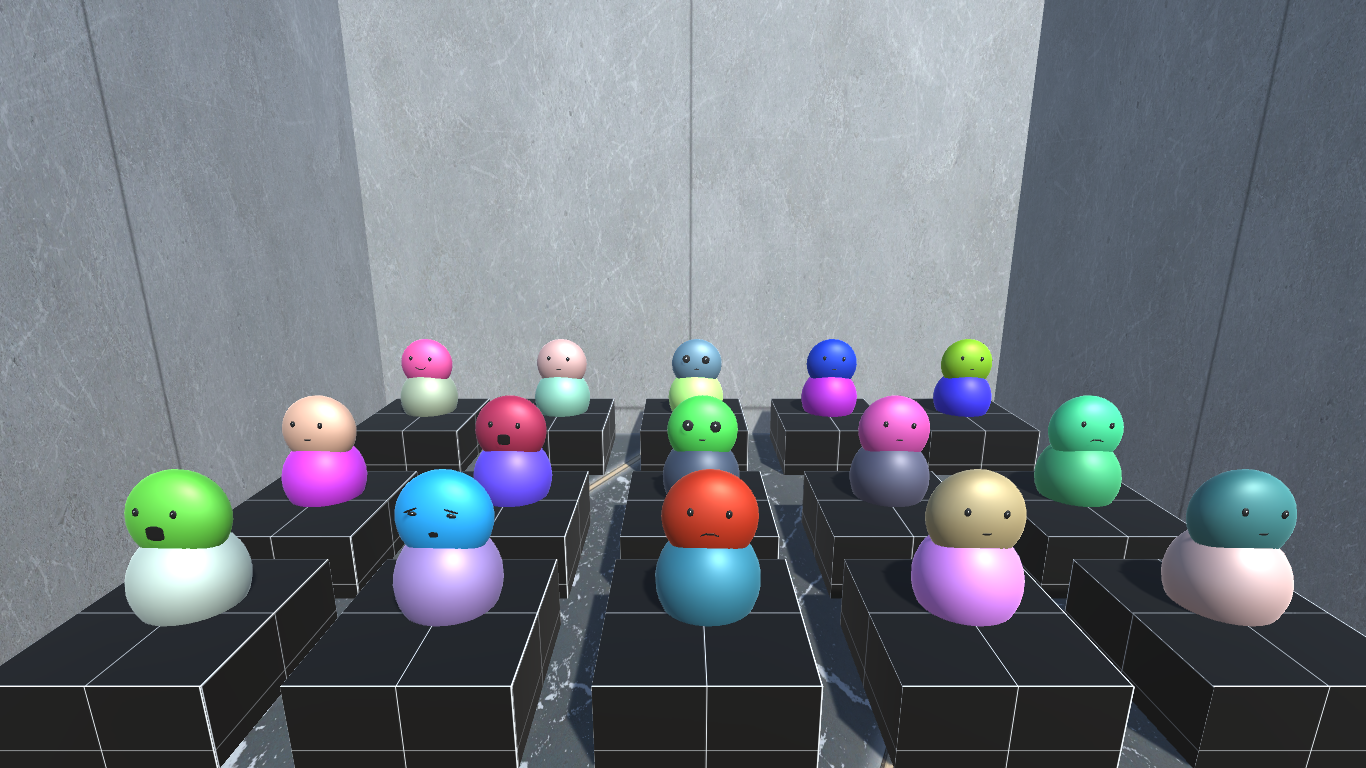blob_atento: (662, 390, 739, 454), (667, 335, 720, 378)
blob_entediado: (389, 471, 500, 552)
blob_feliz: (394, 335, 458, 383)
blob_normal: (1178, 461, 1303, 551), (911, 469, 1032, 553), (270, 393, 362, 456), (854, 387, 931, 458), (938, 335, 996, 381), (530, 335, 587, 381), (802, 335, 858, 378)
blob_surpreso: (115, 467, 241, 556), (467, 393, 553, 457)
blob_triste: (657, 468, 759, 552), (1042, 390, 1128, 457)
